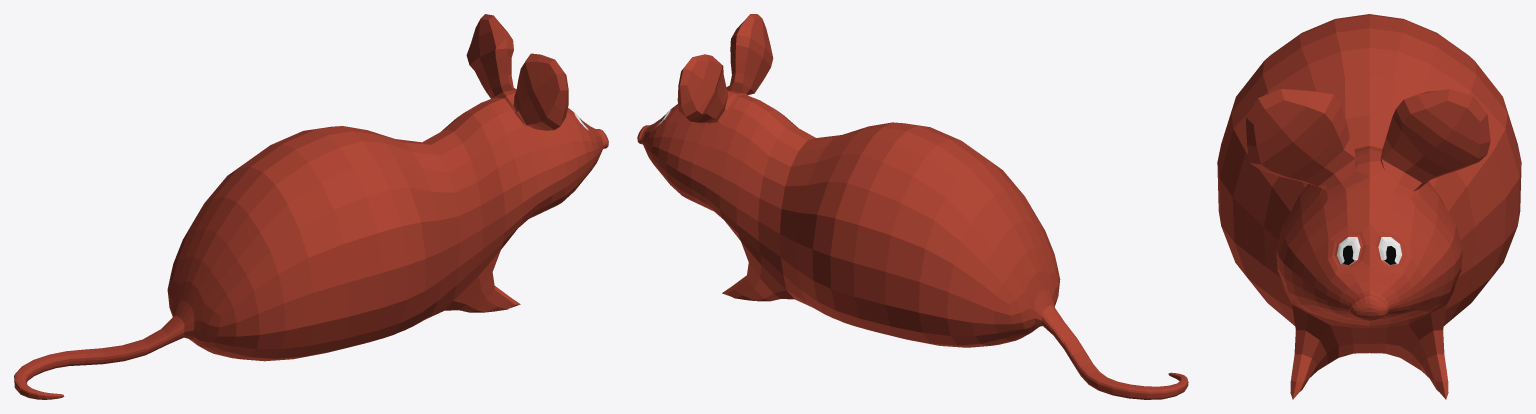
File: SM_Maus_05_rot.fbx
3 renders of one model, left to right at view 1: azimuth 30°, elevation 25°; view 2: azimuth 150°, elevation 25°; view 3: azimuth 270°, elevation 25°, orthographic. The views are drawn at different scales.
Visible parts, largest first — view 1: SM_Maus; view 2: SM_Maus; view 3: SM_Maus.
Boxes of the visible parts, bbox=[...] form: SM_Maus: bbox=[14, 14, 608, 399]; SM_Maus: bbox=[637, 14, 1188, 399]; SM_Maus: bbox=[1217, 14, 1521, 399].
Size of the model in its own units: 202 by 81.88 by 66.92.
